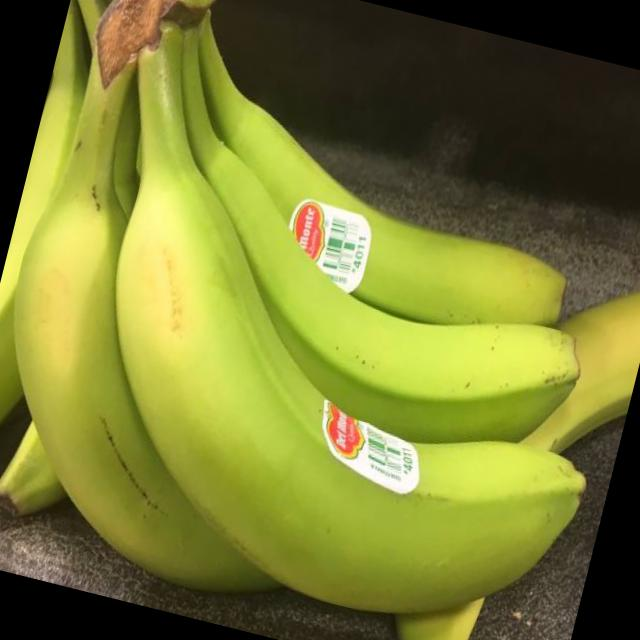banana: (7, 0, 640, 640), (71, 0, 640, 461), (117, 0, 625, 345), (380, 232, 640, 640)
